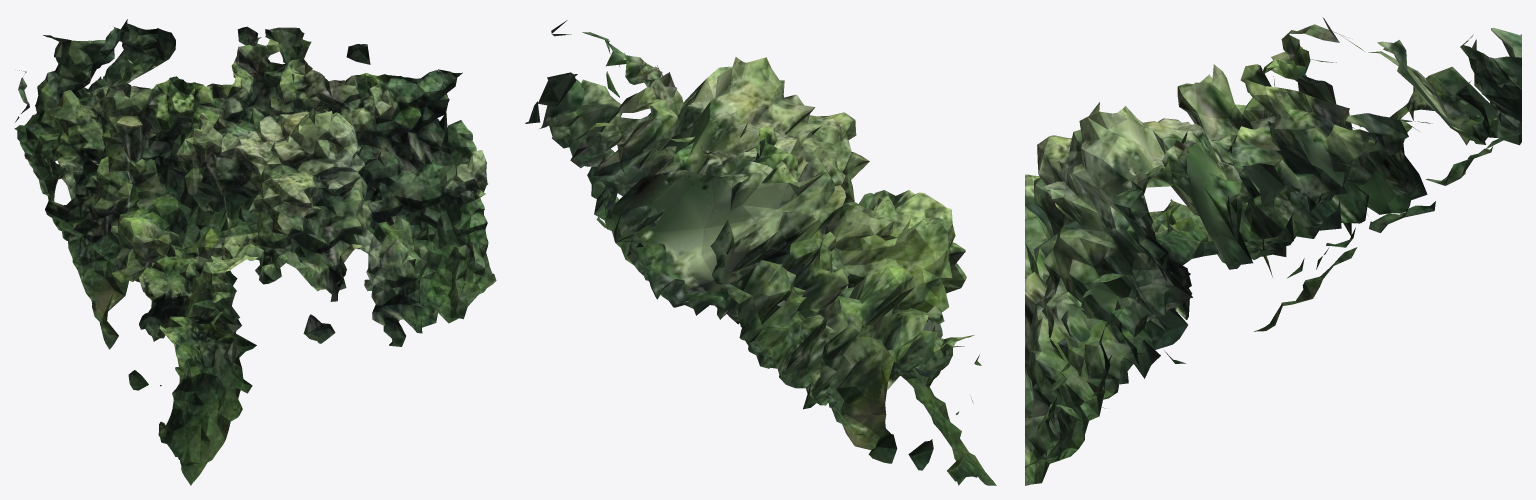
3 renders of one model, left to right at view 1: azimuth 30°, elevation 25°; view 2: azimuth 150°, elevation 25°; view 3: azimuth 270°, elevation 25°, orthographic. The views are drawn at different scales.
Size of the model in its own units: 52.22 by 51.38 by 52.22.
7 materials, 7 textured.
